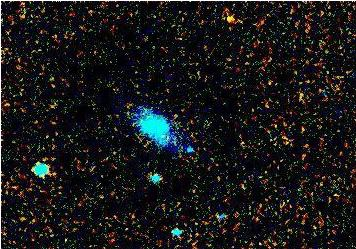star: (213, 2, 243, 32)
